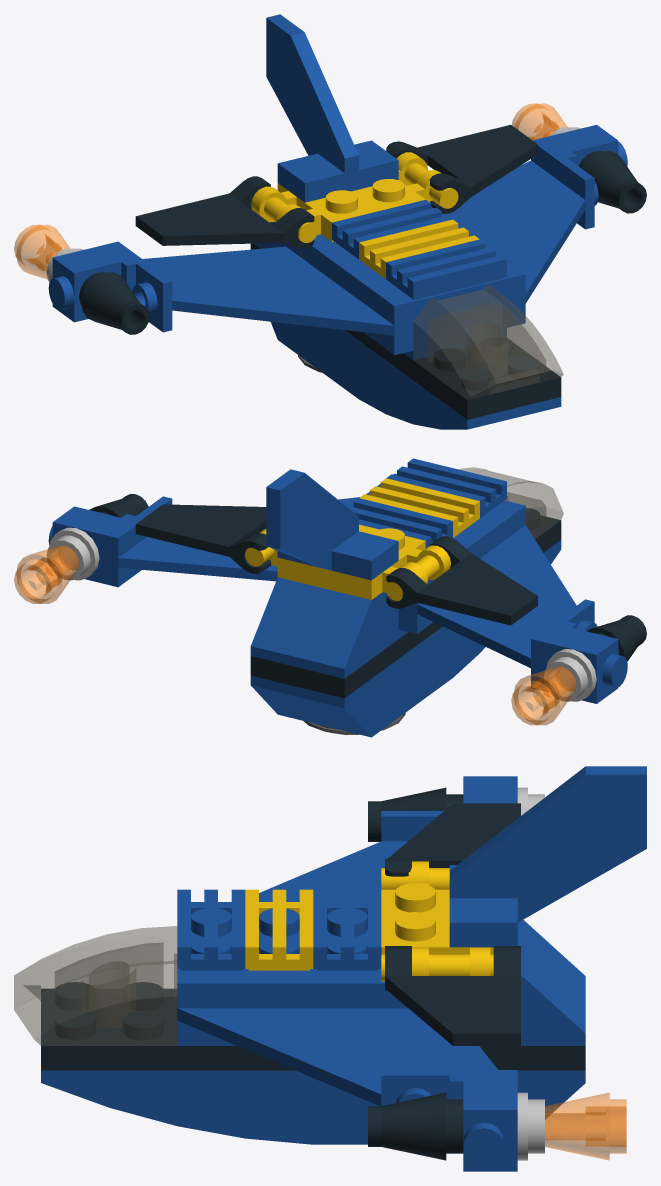
Rendered from 009-4882_Speed_Wings-Model_B.lxf.glb.
The picture shows the model from 3 angles, top to bottom: view 1: azimuth 30°, elevation 25°; view 2: azimuth 150°, elevation 25°; view 3: azimuth 270°, elevation 25°; orthographic projection. The views are drawn at different scales.
Visible parts, largest first — view 1: 2340.dat (×2), 44676a.dat (×2), 30602.dat, 44661.dat, 2412b.dat (×3), 4589.dat (×4), 3034.dat, 42023.dat, 2540.dat (×2), 4070.dat (×2), 30414.dat (×2), 3660b.dat; view 2: 2340.dat (×2), 44676a.dat (×2), 3039.dat, 44661.dat, 2412b.dat (×3), 4589.dat (×4), 3660b.dat, 4070.dat (×2), 2540.dat (×2), 3034.dat, 42023.dat, 6141.dat (×2) (+1 smaller); view 3: 2340.dat (×2), 44661.dat, 42023.dat, 30602.dat, 3034.dat, 44676a.dat (×2), 2412b.dat (×3), 4589.dat (×3), 2540.dat (×2), 4070.dat (×2), 3039.dat, 30414.dat (×2) (+2 smaller).
Part boxes in pixels (<box>): 2340.dat (×2): <box>109,138,598,355</box>; 44676a.dat (×2): <box>135,125,537,248</box>; 30602.dat: <box>413,283,563,399</box>; 44661.dat: <box>266,14,398,202</box>; 2412b.dat (×3): <box>332,199,506,299</box>; 4589.dat (×4): <box>14,103,646,334</box>; 3034.dat: <box>250,243,561,419</box>; 42023.dat: <box>305,325,514,429</box>; 2540.dat (×2): <box>251,152,458,242</box>; 4070.dat (×2): <box>48,124,627,322</box>; 30414.dat (×2): <box>332,241,506,360</box>; 3660b.dat: <box>271,321,304,359</box>; 2340.dat (×2): <box>109,473,597,689</box>; 44676a.dat (×2): <box>135,504,537,625</box>; 3039.dat: <box>250,577,398,678</box>; 44661.dat: <box>266,469,398,580</box>; 2412b.dat (×3): <box>347,458,506,547</box>; 4589.dat (×4): <box>14,494,646,725</box>; 3660b.dat: <box>250,659,398,737</box>; 4070.dat (×2): <box>48,506,627,703</box>; 2540.dat (×2): <box>245,524,450,600</box>; 3034.dat: <box>250,508,561,698</box>; 42023.dat: <box>398,540,561,717</box>; 6141.dat (×2): <box>46,527,596,701</box>; 2340.dat (×2): <box>177,811,517,1106</box>; 44661.dat: <box>449,766,646,947</box>; 42023.dat: <box>41,1070,379,1144</box>; 30602.dat: <box>14,926,177,1045</box>; 3034.dat: <box>41,982,585,1070</box>; 44676a.dat (×2): <box>385,803,520,1045</box>; 2412b.dat (×3): <box>177,889,381,970</box>; 4589.dat (×3): <box>368,787,626,1160</box>; 2540.dat (×2): <box>381,861,493,981</box>; 4070.dat (×2): <box>449,776,517,1171</box>; 3039.dat: <box>517,919,585,1045</box>; 30414.dat (×2): <box>177,908,381,1045</box>.
Size of the model in its own units: 0.096 by 0.048 by 0.0744.
